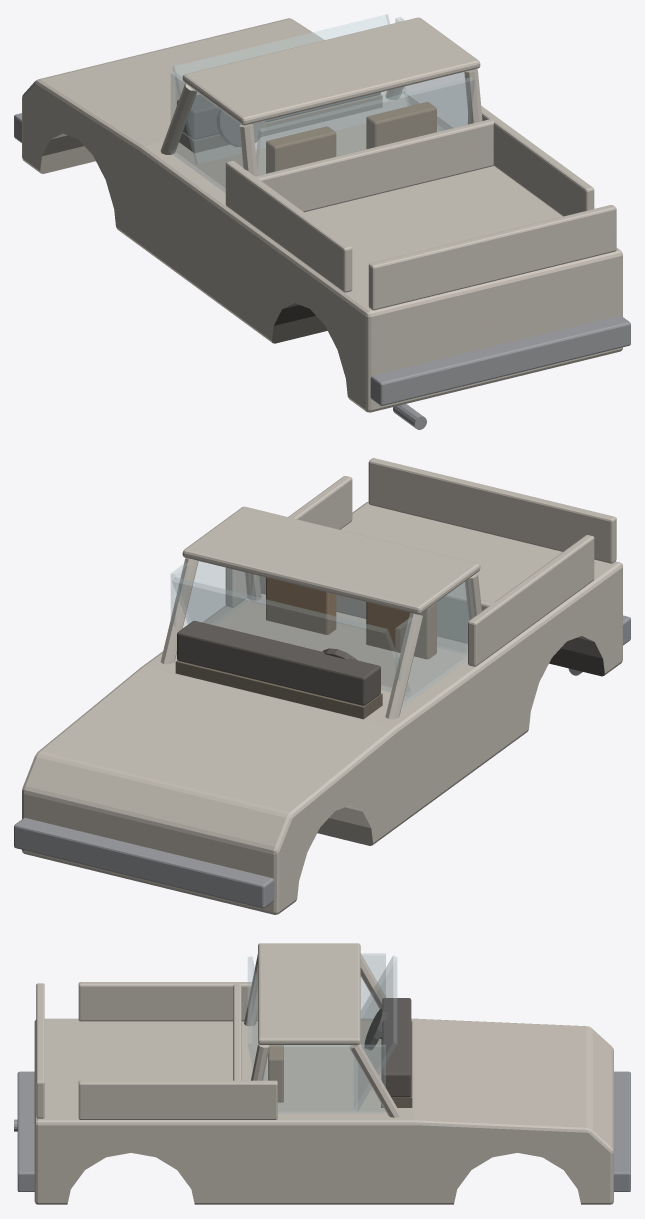
The model's file is pickup.glb.
3 views of the same model, one above another, from view 1: azimuth 30°, elevation 25°; view 2: azimuth 150°, elevation 25°; view 3: azimuth 270°, elevation 25° (orthographic). The views are drawn at different scales.
Parts seen in each view (by area): view 1: body, roof, tailgate, bed_front, rear_glass, ws_glass, bumper_r, bed_wall_l, bed_wall_r, side_glass_-1, side_glass_1, seat_back_1 (+7 smaller); view 2: body, roof, tailgate, dash, ws_glass, bumper_f, bed_wall_l, side_glass_-1, side_glass_1, rear_glass, seat_back_1, cowl (+5 smaller); view 3: body, roof, bed_wall_r, side_glass_1, bed_wall_l, ws_glass, dash, bumper_r, bumper_f, tailgate, side_glass_-1, a_pillar_1 (+8 smaller).
Part boxes in pixels (bbox=[...]): body: bbox=[22, 18, 622, 412]; roof: bbox=[182, 17, 480, 125]; tailgate: bbox=[368, 205, 616, 310]; bed_front: bbox=[253, 118, 495, 212]; rear_glass: bbox=[256, 77, 474, 175]; ws_glass: bbox=[172, 14, 409, 164]; bumper_r: bbox=[370, 315, 630, 405]; bed_wall_l: bbox=[225, 161, 352, 292]; bed_wall_r: bbox=[468, 106, 594, 216]; side_glass_-1: bbox=[171, 72, 242, 192]; side_glass_1: bbox=[395, 17, 468, 130]; seat_back_1: bbox=[366, 102, 436, 148]; body: bbox=[22, 502, 622, 914]; roof: bbox=[182, 506, 480, 614]; tailgate: bbox=[368, 458, 616, 563]; dash: bbox=[177, 620, 380, 705]; ws_glass: bbox=[172, 577, 410, 696]; bumper_f: bbox=[14, 818, 274, 908]; bed_wall_l: bbox=[468, 535, 594, 666]; side_glass_-1: bbox=[395, 578, 473, 708]; side_glass_1: bbox=[171, 561, 250, 627]; rear_glass: bbox=[251, 574, 468, 653]; seat_back_1: bbox=[266, 577, 336, 634]; cowl: bbox=[175, 660, 382, 719]; body: bbox=[34, 1018, 613, 1204]; roof: bbox=[258, 943, 360, 1044]; bed_wall_r: bbox=[78, 1080, 277, 1119]; side_glass_1: bbox=[263, 1045, 385, 1113]; bed_wall_l: bbox=[78, 982, 257, 1021]; ws_glass: bbox=[354, 955, 396, 1110]; dash: bbox=[382, 998, 411, 1097]; bumper_r: bbox=[17, 1071, 34, 1191]; bumper_f: bbox=[613, 1071, 630, 1191]; tailgate: bbox=[36, 983, 44, 1118]; side_glass_-1: bbox=[361, 953, 385, 1021]; a_pillar_1: bbox=[349, 1043, 401, 1117].
Size of the model in its own units: 2.05 by 1.61 by 5.11.
